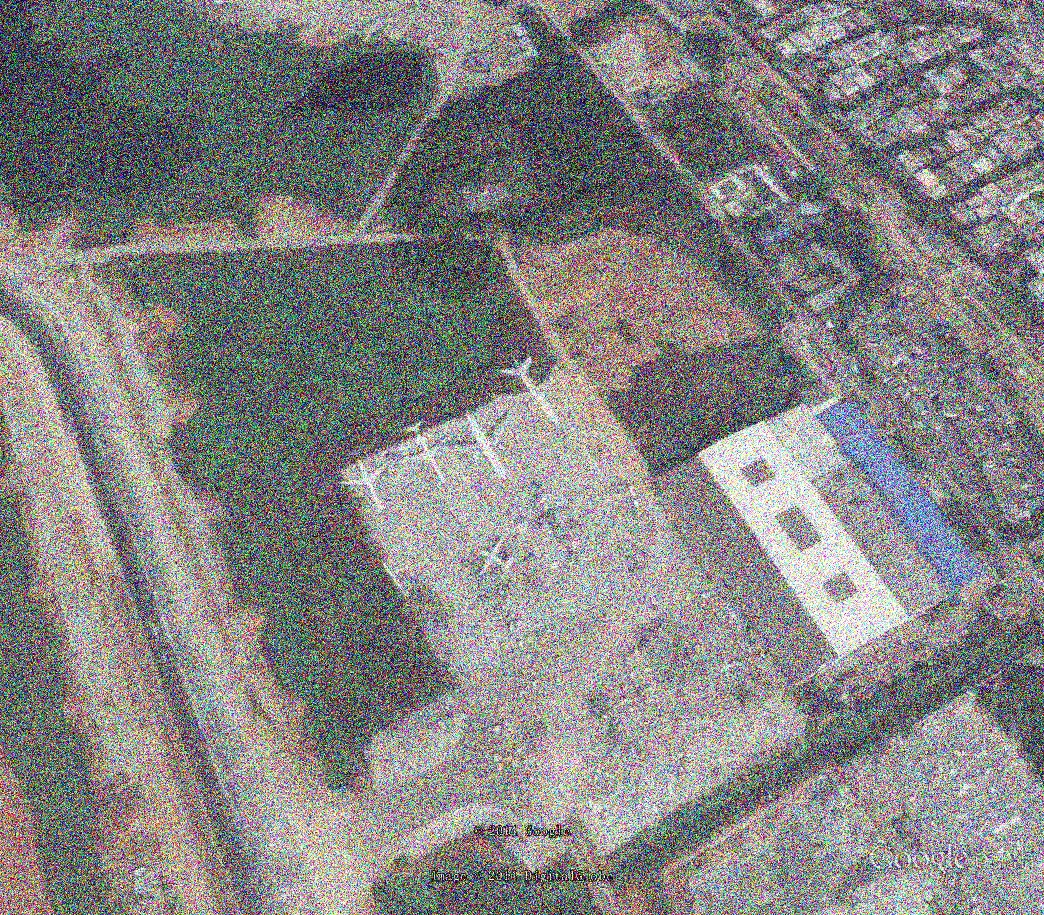aircraft: (439, 399, 522, 484), (496, 349, 565, 429), (331, 438, 394, 514), (397, 415, 453, 486), (475, 535, 516, 580)
